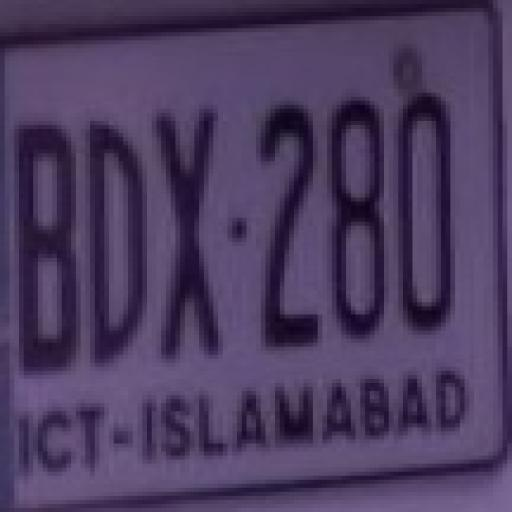0: (402, 93, 460, 336)
2: (250, 105, 326, 348)
8: (335, 99, 385, 346)
B: (14, 118, 82, 378)
D: (88, 117, 146, 366)
X: (152, 108, 228, 359)
